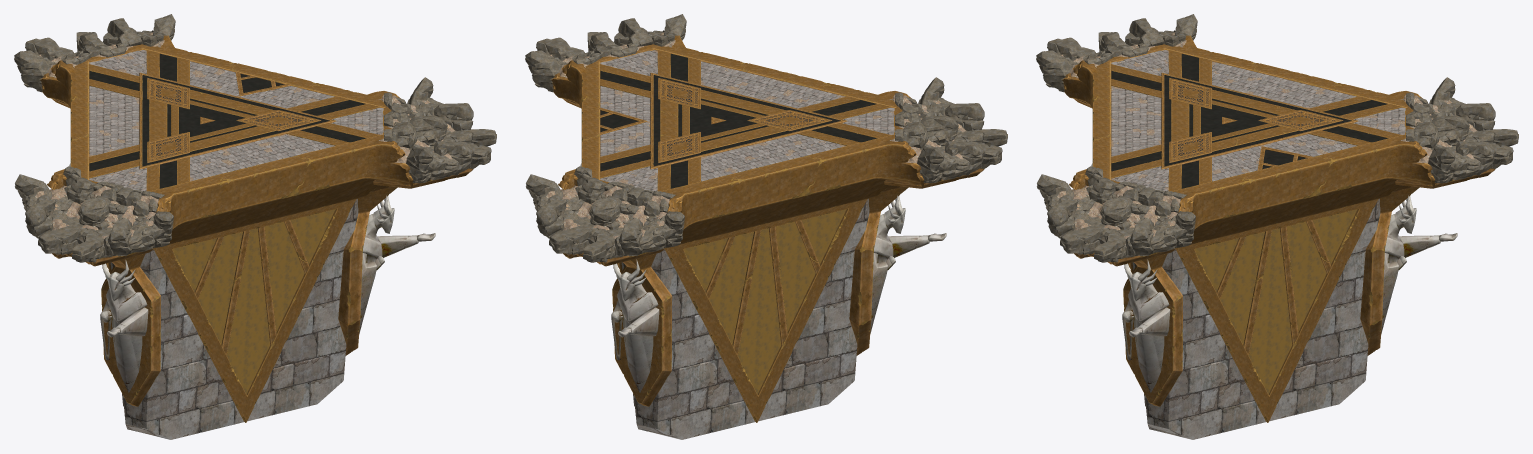
3 views of the same model, side by side, from view 1: azimuth 30°, elevation 25°; view 2: azimuth 150°, elevation 25°; view 3: azimuth 270°, elevation 25° (orthographic).
Parts seen in each view (by area): view 1: SM_Dragons_Arena_Floor_01_LOD0; view 2: SM_Dragons_Arena_Floor_01_LOD0; view 3: SM_Dragons_Arena_Floor_01_LOD0.
Boxes of the visible parts, x1,y1,x2,y2 form: SM_Dragons_Arena_Floor_01_LOD0: (14, 14, 496, 439); SM_Dragons_Arena_Floor_01_LOD0: (525, 14, 1007, 439); SM_Dragons_Arena_Floor_01_LOD0: (1036, 14, 1518, 439).
Size of the model in its own units: 96.21 by 57.07 by 88.81.
10 materials, 9 textured.
